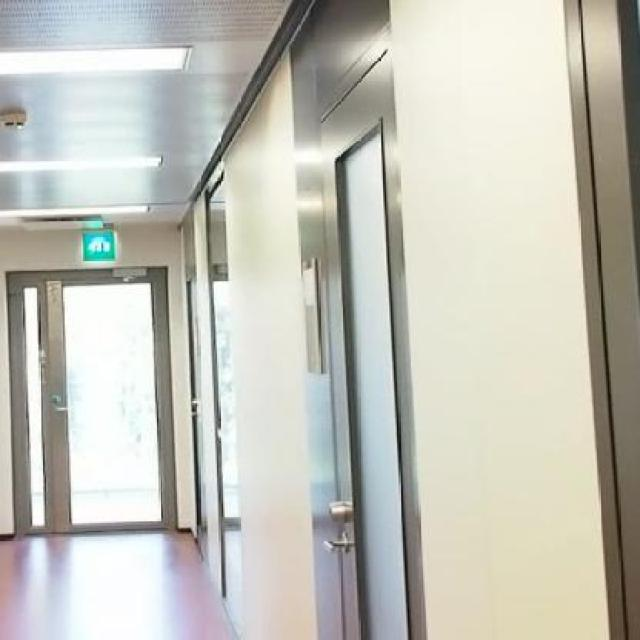emergency_exit: (80, 228, 118, 264)
